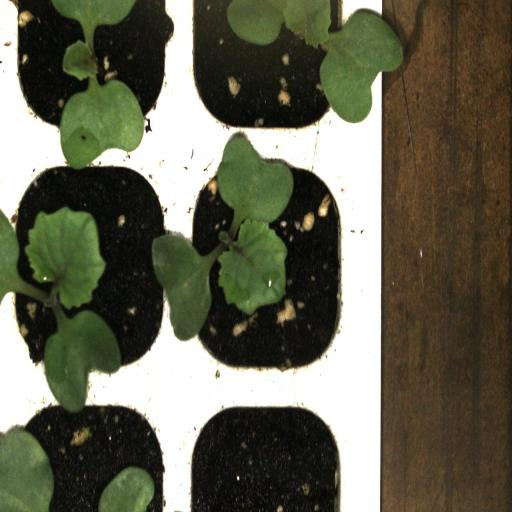Folha: (0, 427, 54, 512), (98, 466, 155, 512)
Germinacao: (170, 146, 362, 384), (11, 149, 173, 384), (183, 0, 363, 139), (10, 0, 179, 139)
